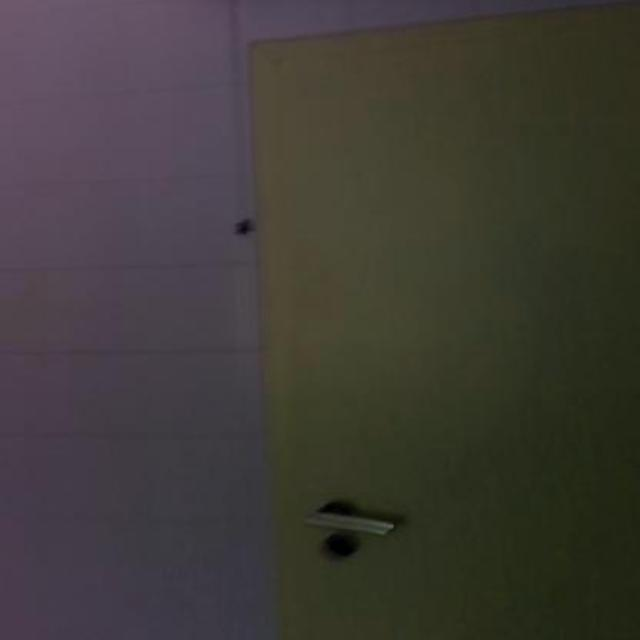door: (246, 0, 638, 638)
